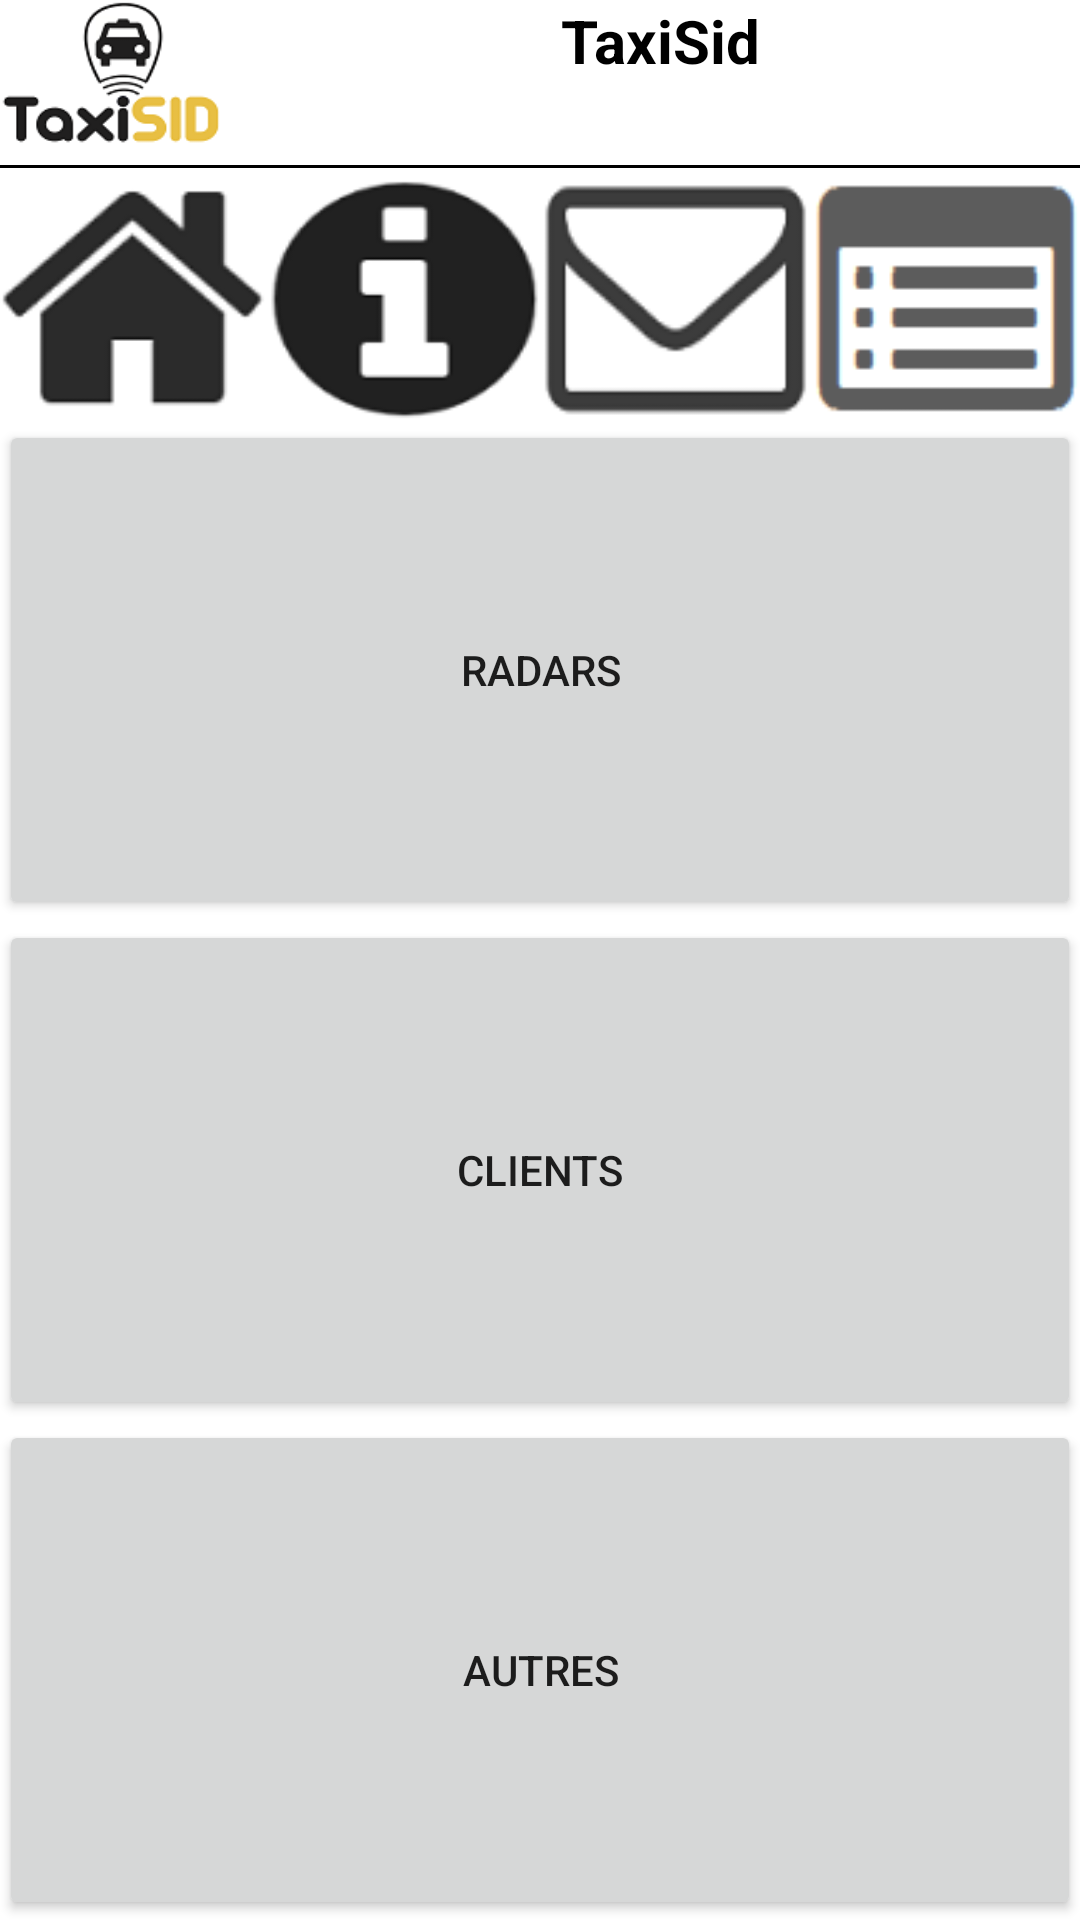

Icons on this 1080w x 1920h Android screen, each with the point to tap as (x=x, y=y):
enveloppe: (x=675, y=299)
home: (x=132, y=298)
